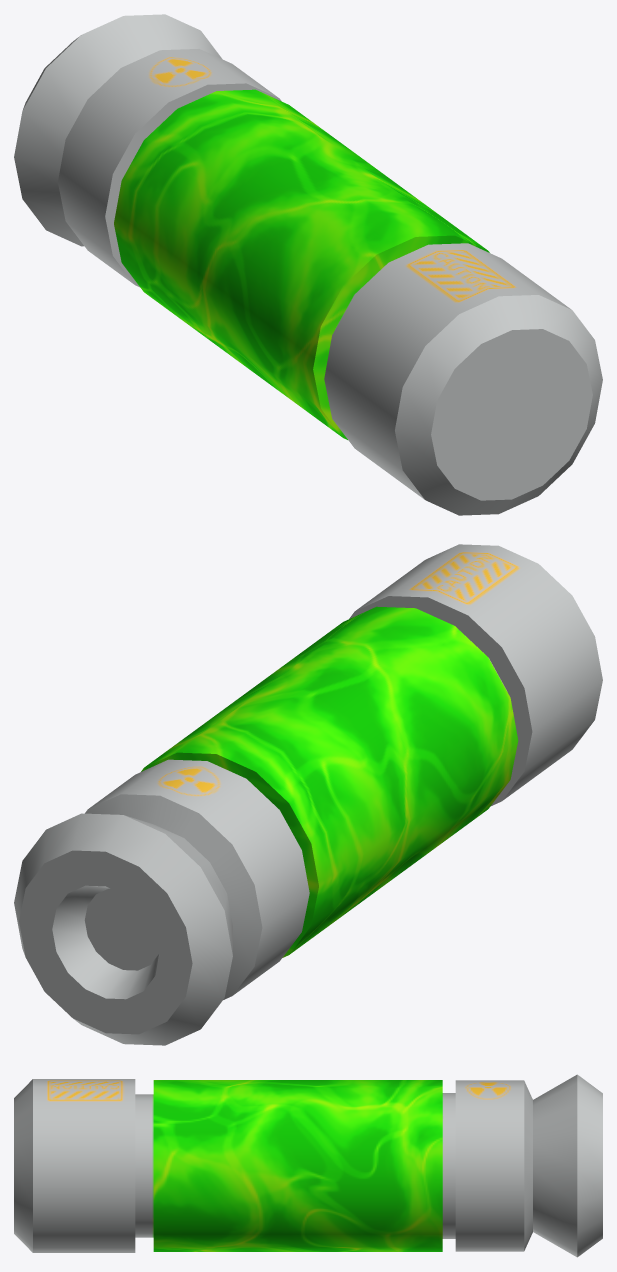
Rendered from Battery.fbx.
The picture shows the model from 3 angles, top to bottom: view 1: azimuth 30°, elevation 25°; view 2: azimuth 150°, elevation 25°; view 3: azimuth 270°, elevation 25°; orthographic projection. The views are drawn at different scales.
Visible parts, largest first — view 1: Battery.014; view 2: Battery.014; view 3: Battery.014.
Boxes of the visible parts, x1,y1,x2,y2 form: Battery.014: (14, 14, 602, 515); Battery.014: (14, 544, 602, 1045); Battery.014: (14, 1074, 602, 1257).
Size of the model in its own units: 13.21 by 13.21 by 42.46.
Materials: 1 (1 with a texture image).
